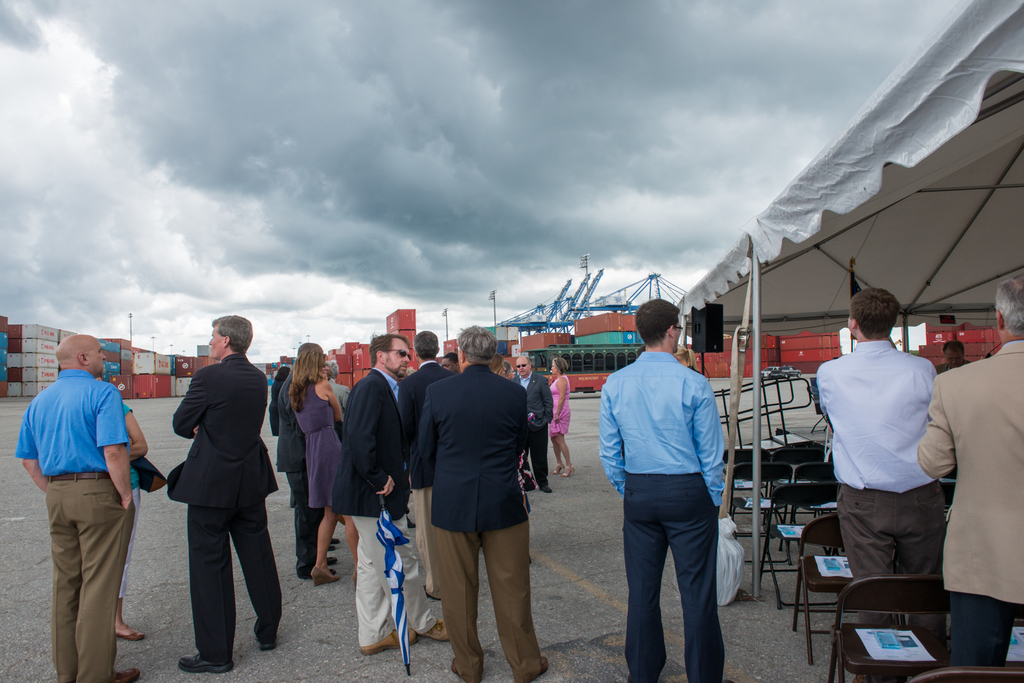Footwear: (166, 646, 228, 674), (360, 626, 417, 654), (415, 616, 448, 643), (111, 664, 141, 682), (252, 636, 277, 651), (118, 627, 143, 640), (449, 659, 458, 679), (406, 516, 415, 530), (538, 484, 550, 494), (327, 556, 337, 567), (542, 657, 548, 673), (327, 543, 333, 550), (332, 538, 339, 543)
